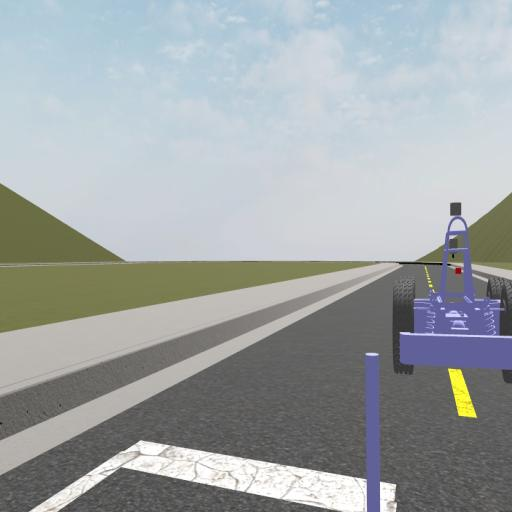ERP-42: (392, 202, 511, 384)
